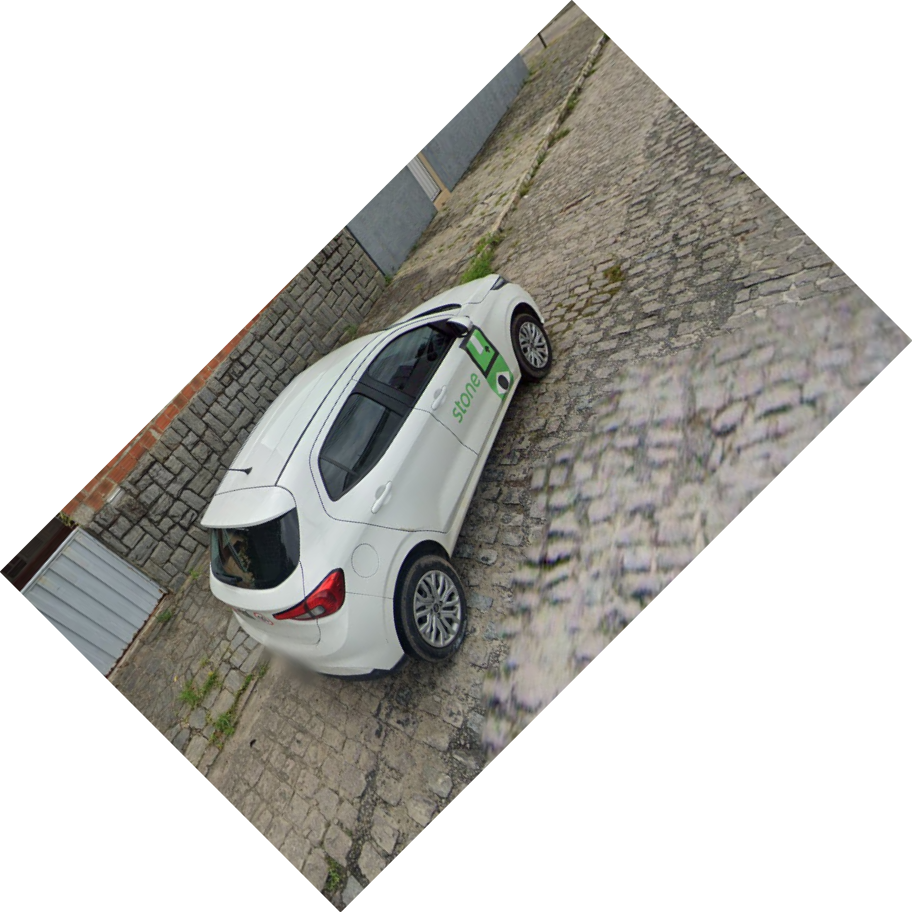car: (198, 271, 555, 682)
